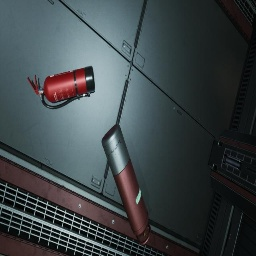FireExtinguisher ]: (27, 66, 95, 109)
NitrogenTank ,: (102, 124, 151, 246)
